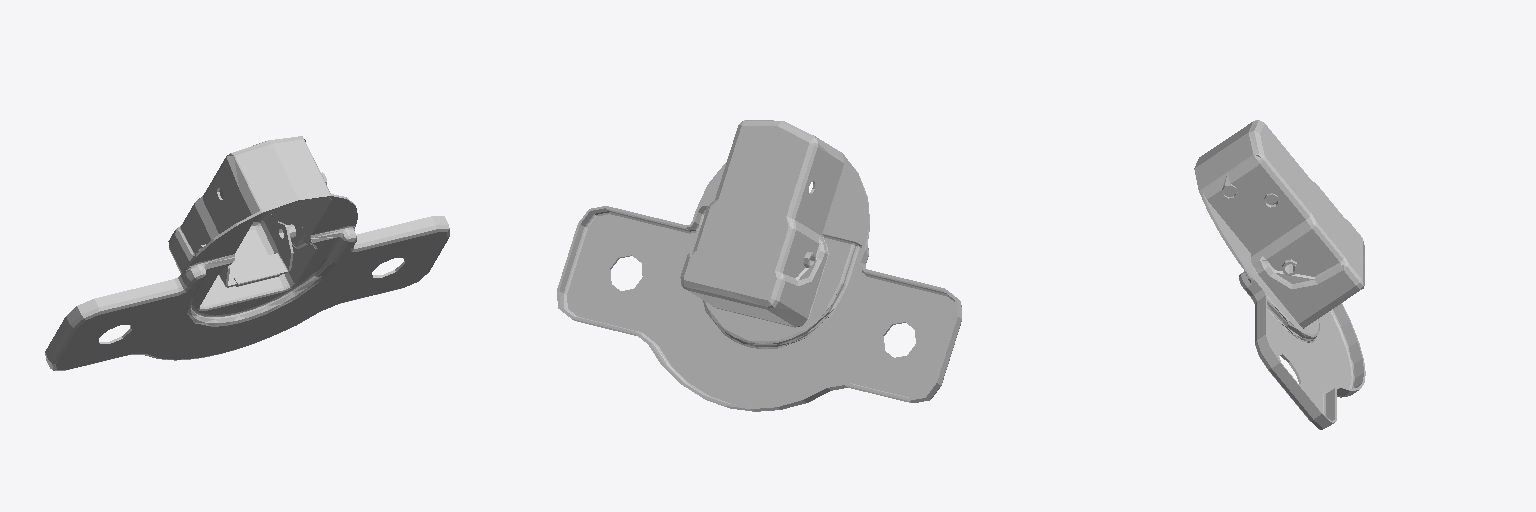
File: Hinge_Box.obj
3 views of the same model, side by side, from view 1: azimuth 30°, elevation 25°; view 2: azimuth 150°, elevation 25°; view 3: azimuth 270°, elevation 25° (orthographic).
Visible parts, largest first — view 1: _[number redacted]; view 2: _[number redacted]; view 3: _[number redacted].
Part boxes in pixels (x1,y1,x2,y2): _[number redacted]: (45,136,449,370); _[number redacted]: (557,120,961,411); _[number redacted]: (1194,120,1365,429).
Bounding box in the file's own units: 81 × 50.98 × 31.69.